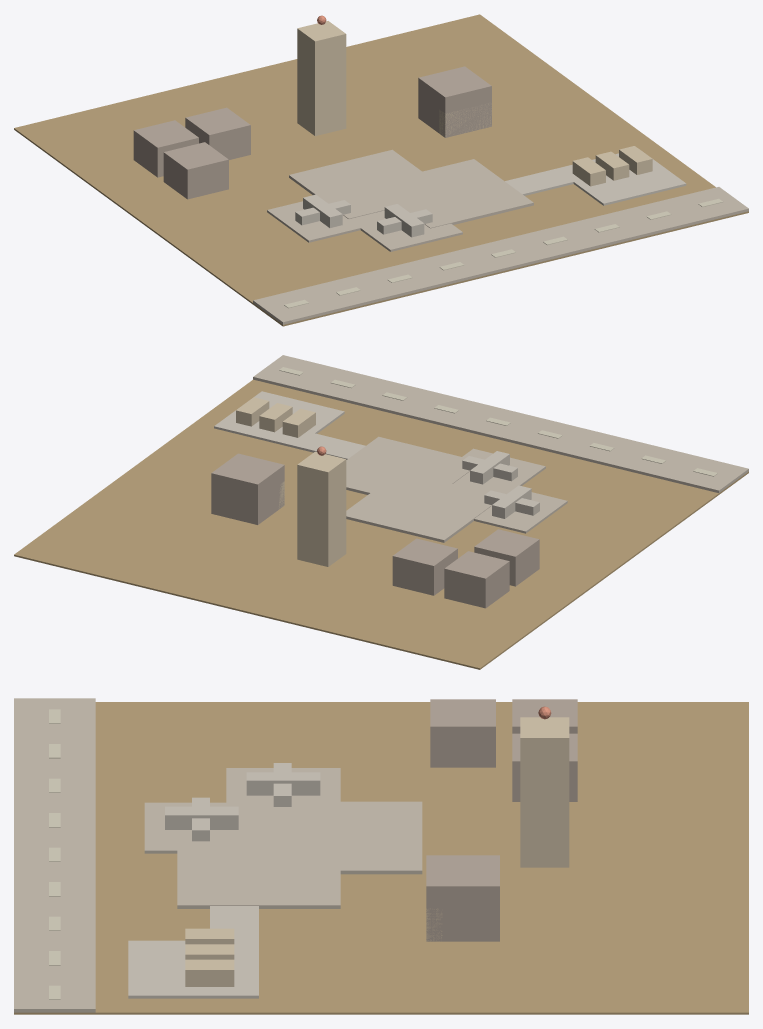
The model's file is stage_11.glb.
3 views of the same model, one above another, from view 1: azimuth 30°, elevation 25°; view 2: azimuth 150°, elevation 25°; view 3: azimuth 270°, elevation 25° (orthographic). The views are drawn at different scales.
Visible parts, largest first — view 1: geometry_0; view 2: geometry_0; view 3: geometry_0.
Boxes of the visible parts, x1=… form: geometry_0: x1=14, y1=14, x2=748, y2=326; geometry_0: x1=14, y1=355, x2=748, y2=669; geometry_0: x1=14, y1=698, x2=748, y2=1014.
Bounding box in the file's own units: 9 × 2.06 × 9.
